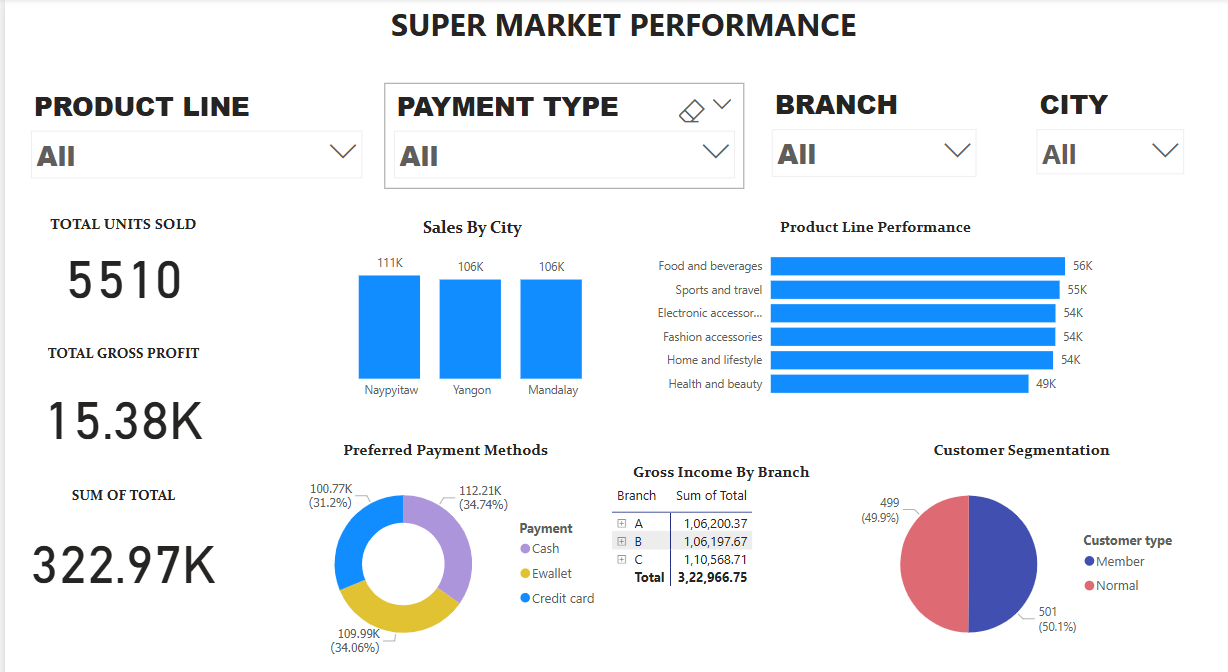

Layout of this report page (visuals, bound fields, positions):
{"tool":"powerbi","page":{"name":"Page 1","canvas":[1280,720],"ordinal":0},"visuals":[{"type":"slicer","fields":{"Values":["supermarket_sales - Sheet1.City"]},"box":[1057.6,86.4,172.9,108.5],"z":0},{"type":"slicer","fields":{"Values":["supermarket_sales - Sheet1.Branch"]},"box":[784,86,232,104],"z":1000},{"type":"slicer","fields":{"Values":["supermarket_sales - Sheet1.Payment"]},"box":[393.2,88.1,372.9,108.5],"z":2000},{"type":"slicer","fields":{"Values":["supermarket_sales - Sheet1.Product line"]},"box":[16.9,88.1,362.7,105.1],"z":3000},{"type":"card","title":"SUM OF TOTAL","fields":{"Values":["Sum(supermarket_sales - Sheet1.Total)"]},"box":[17.3,505.8,211.5,130.8],"z":4000},{"type":"card","title":"TOTAL UNITS SOLD","fields":{"Values":["Sum(supermarket_sales - Sheet1.Quantity)"]},"box":[17.3,223.1,211.5,103.8],"z":5000},{"type":"card","title":"TOTAL GROSS PROFIT","fields":{"Values":["Sum(supermarket_sales - Sheet1.gross income)"]},"box":[17.3,359.6,211.5,125],"z":6000},{"type":"clusteredColumnChart","title":"Sales By City","fields":{"Category":["supermarket_sales - Sheet1.City"],"Y":["Sum(supermarket_sales - Sheet1.Total)"]},"box":[328.8,226.9,311.5,198.1],"z":8000},{"type":"barChart","title":" Product Line Performance","fields":{"Category":["supermarket_sales - Sheet1.Product line"],"Y":["Sum(supermarket_sales - Sheet1.Total)"]},"box":[659.6,226.9,484.6,198.1],"z":9000},{"type":"donutChart","title":"Preferred  Payment Methods","fields":{"Category":["supermarket_sales - Sheet1.Payment"],"Y":["Sum(supermarket_sales - Sheet1.Total)"]},"box":[288.5,457.7,336.5,238.5],"z":11000},{"type":"pieChart","title":"Customer Segmentation","fields":{"Category":["supermarket_sales - Sheet1.Customer type"],"Y":["CountNonNull(supermarket_sales - Sheet1.Customer type)"]},"box":[875,457.7,355.8,238.5],"z":12000},{"type":"pivotTable","title":"Gross Income By Branch","fields":{"Rows":["supermarket_sales - Sheet1.Branch","supermarket_sales - Sheet1.Product line"],"Values":["Sum(supermarket_sales - Sheet1.Total)"]},"box":[640.4,480.8,234.6,180.8],"z":15000},{"type":"textbox","box":[0,0,1280.8,86.5],"z":16000}]}

Visuals, with their boxes in screenshot pixels (x1, y1, x2, y2), scaled from the page's 1280x720 canvas onto the 1228x672 screenshot:
slicer - supermarket_sales - Sheet1.City: BBox(1015, 81, 1181, 182)
slicer - supermarket_sales - Sheet1.Branch: BBox(752, 80, 975, 177)
slicer - supermarket_sales - Sheet1.Payment: BBox(377, 82, 735, 183)
slicer - supermarket_sales - Sheet1.Product line: BBox(16, 82, 364, 180)
"SUM OF TOTAL" card: BBox(17, 472, 220, 594)
"TOTAL UNITS SOLD" card: BBox(17, 208, 220, 305)
"TOTAL GROSS PROFIT" card: BBox(17, 336, 220, 452)
"Sales By City" clusteredColumnChart: BBox(315, 212, 614, 397)
" Product Line Performance" barChart: BBox(633, 212, 1098, 397)
"Preferred  Payment Methods" donutChart: BBox(277, 427, 600, 650)
"Customer Segmentation" pieChart: BBox(839, 427, 1181, 650)
"Gross Income By Branch" pivotTable: BBox(614, 449, 839, 617)
textbox: BBox(0, 0, 1227, 81)
